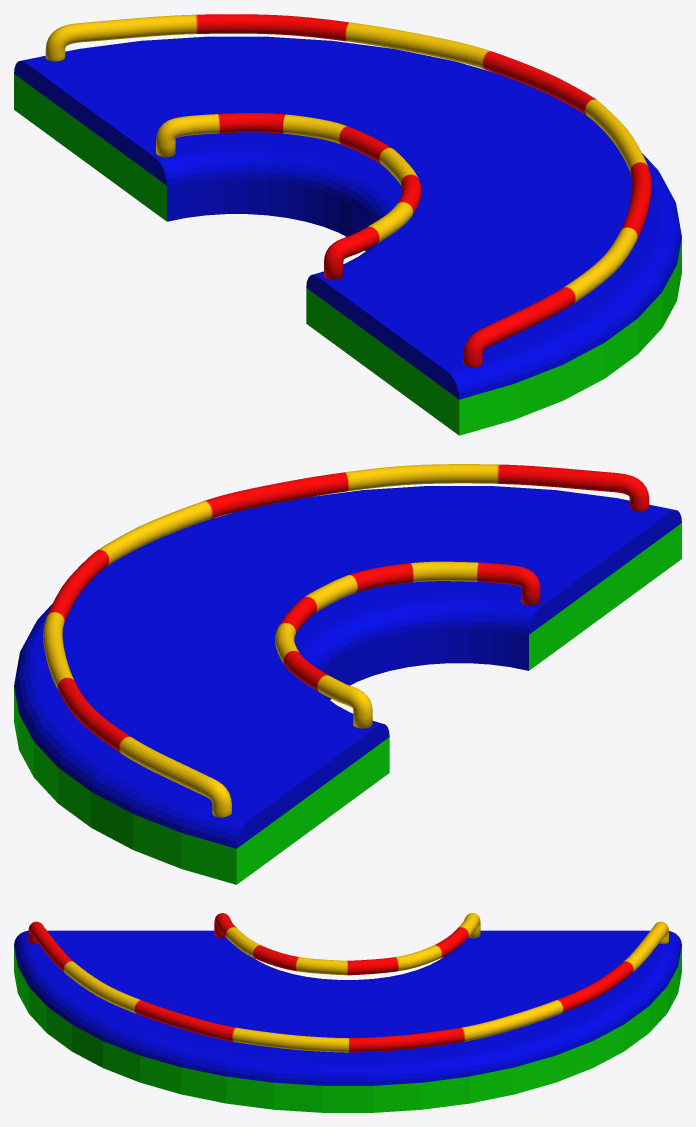
The model's file is 6 with texture.fbx.
3 views of the same model, one above another, from view 1: azimuth 30°, elevation 25°; view 2: azimuth 150°, elevation 25°; view 3: azimuth 270°, elevation 25° (orthographic). The views are drawn at different scales.
Parts seen in each view (by area): view 1: Cube, pCylinder7, pCylinder13; view 2: Cube, pCylinder7, pCylinder13; view 3: Cube, pCylinder7, pCylinder13.
Part boxes in pixels (x1,y1,x2,y2): Cube: (14, 36, 681, 435); pCylinder7: (45, 14, 651, 367); pCylinder13: (156, 113, 421, 279); Cube: (14, 486, 681, 884); pCylinder7: (43, 464, 649, 817); pCylinder13: (274, 561, 540, 728); Cube: (14, 930, 681, 1112); pCylinder7: (28, 921, 668, 1052); pCylinder13: (214, 913, 480, 975).
Size of the model in its own units: 725 by 159 by 1455.
